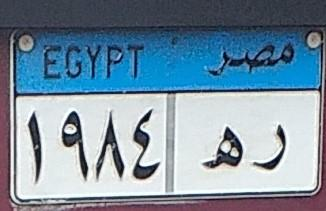1: (23, 107, 50, 187)
4: (130, 105, 164, 182)
8: (93, 106, 127, 184)
9: (59, 107, 89, 182)
haa: (202, 124, 247, 172)
raa: (251, 118, 290, 178)
